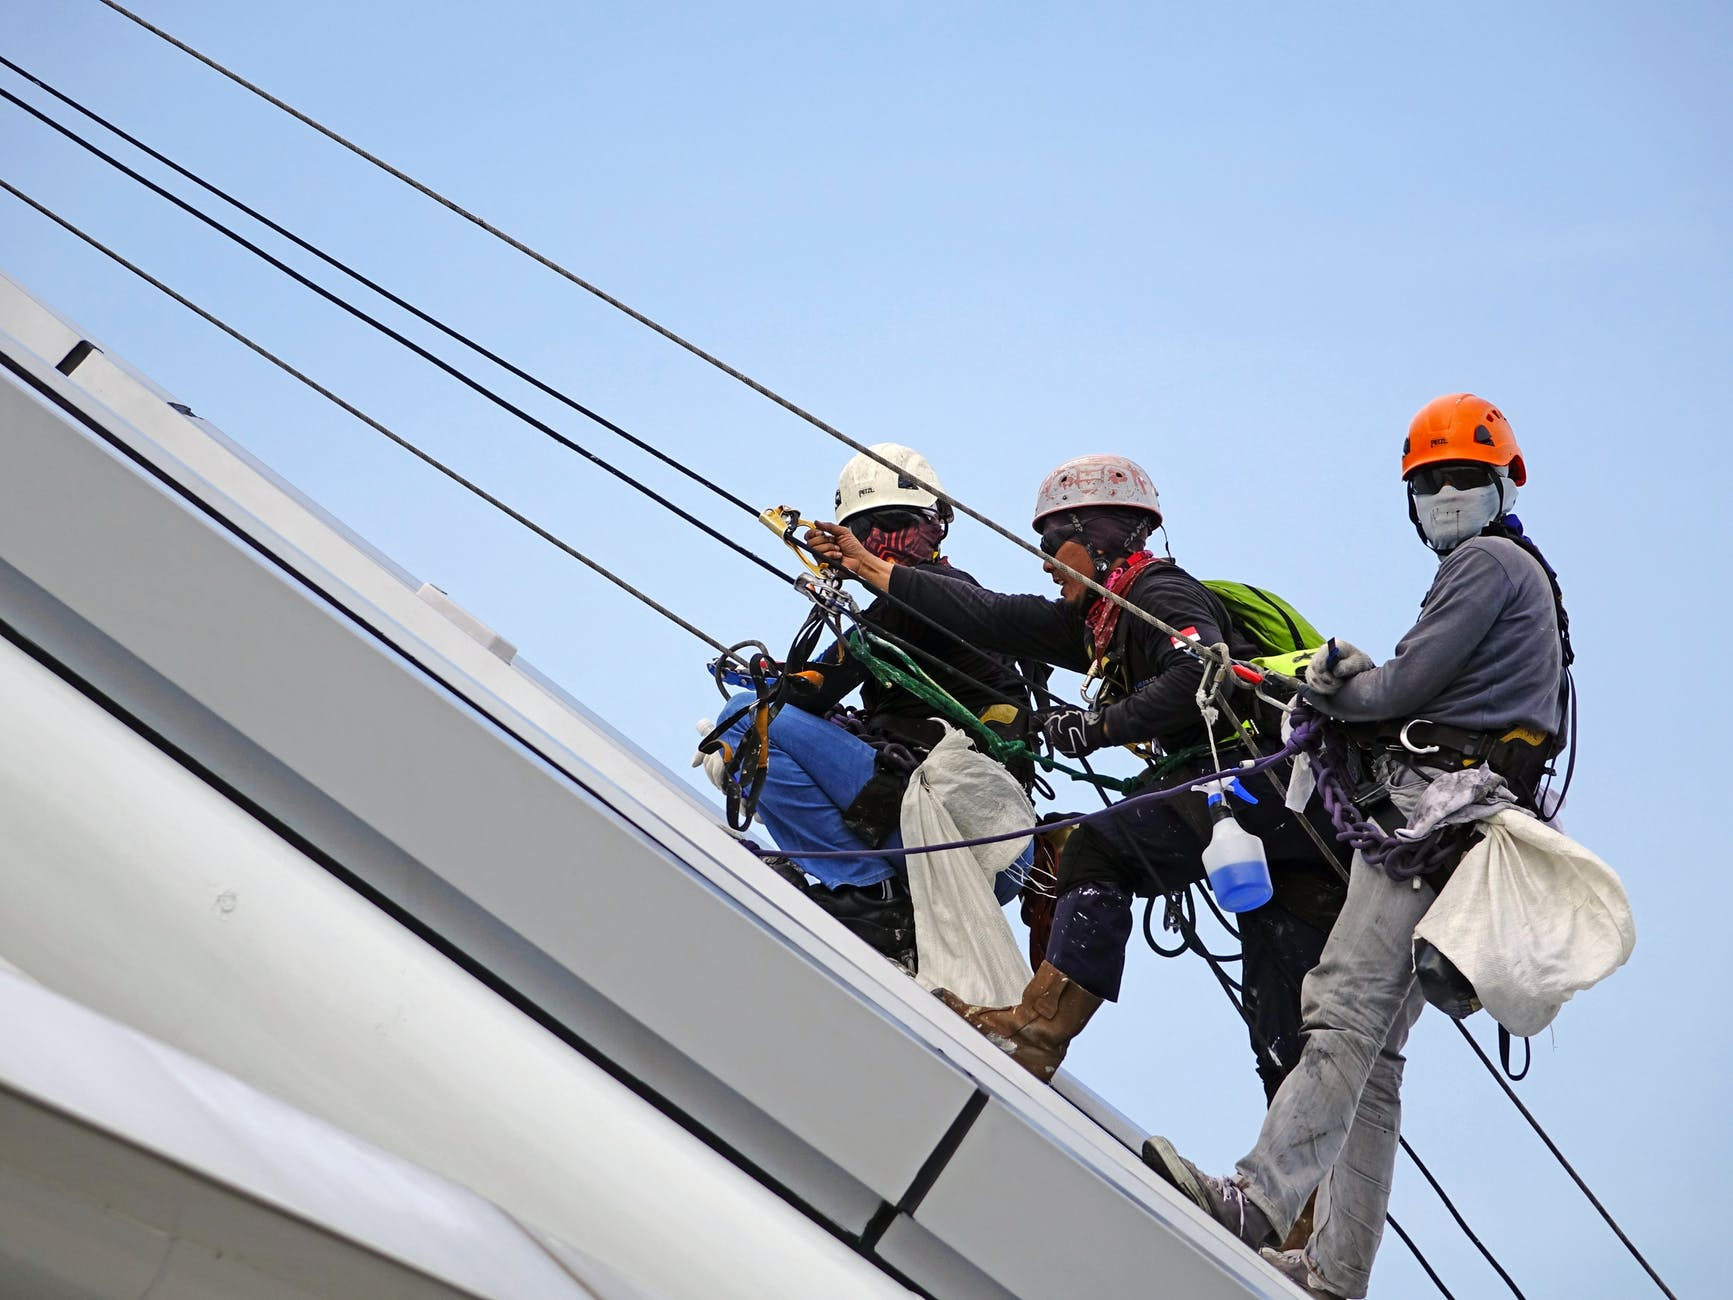helmet: (1397, 397, 1525, 479), (833, 445, 957, 522), (1041, 451, 1179, 505)
